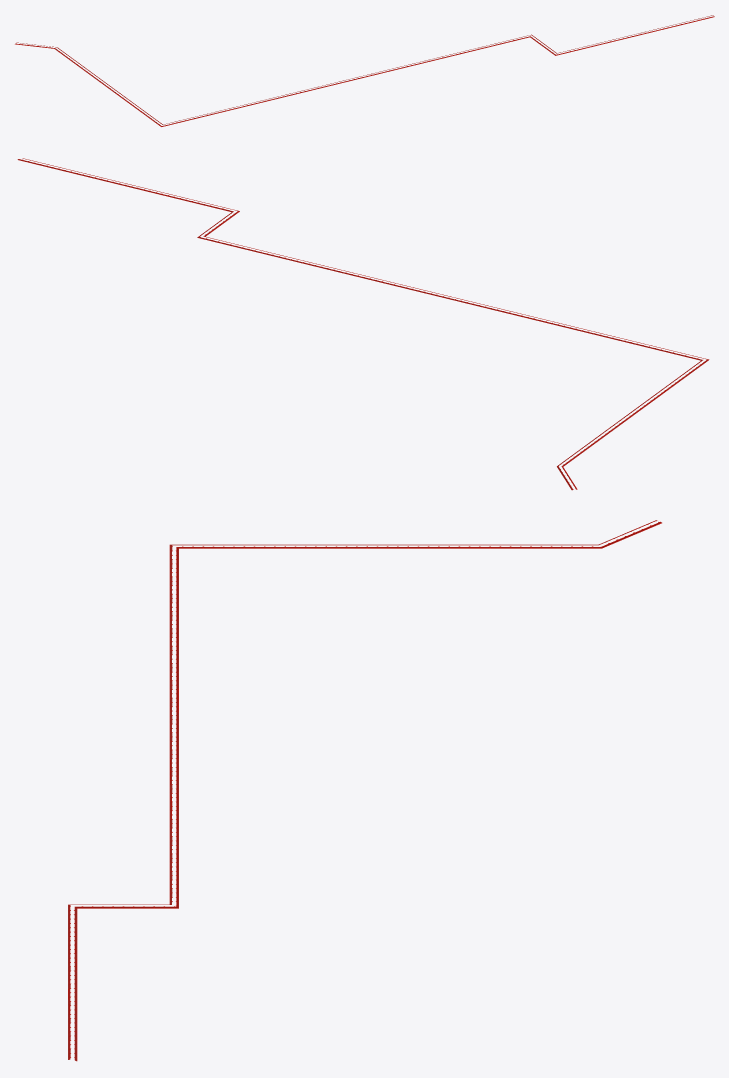
The model's file is UnlockPipe_2.fbx.
The picture shows the model from 3 angles, top to bottom: view 1: azimuth 30°, elevation 25°; view 2: azimuth 150°, elevation 25°; view 3: azimuth 270°, elevation 25°; orthographic projection. The views are drawn at different scales.
Visible parts, largest first — view 1: nurbsToPoly1; view 2: nurbsToPoly1; view 3: nurbsToPoly1.
Part boxes in pixels (<box>): nurbsToPoly1: <box>15,15,714,126</box>; nurbsToPoly1: <box>17,158,709,490</box>; nurbsToPoly1: <box>68,520,661,1061</box>.
Size of the model in its own units: 63.49 by 0.1422 by 29.79.
